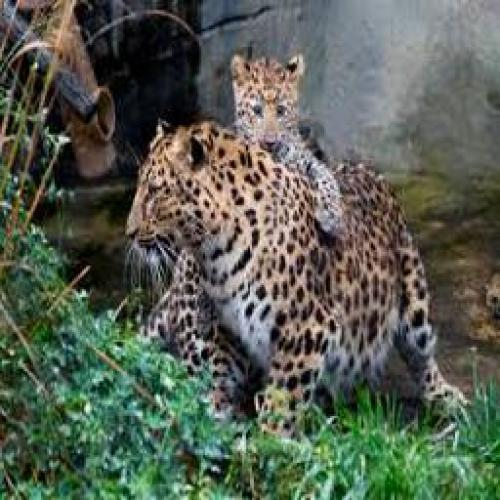amur_leopard-endangered: (122, 120, 470, 437), (228, 55, 348, 239)
